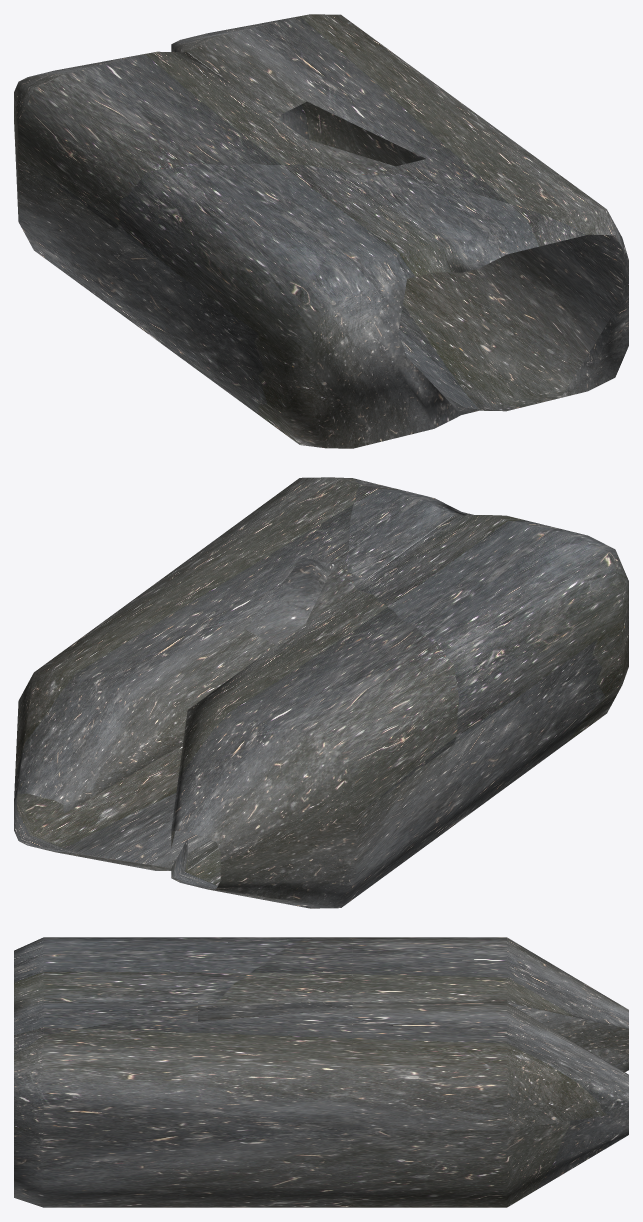
File: module1.fbx
The picture shows the model from 3 angles, top to bottom: view 1: azimuth 30°, elevation 25°; view 2: azimuth 150°, elevation 25°; view 3: azimuth 270°, elevation 25°; orthographic projection. The views are drawn at different scales.
Visible parts, largest first — view 1: Cube; view 2: Cube; view 3: Cube.
Boxes of the visible parts, x1,y1,x2,y2 form: Cube: [14, 14, 628, 448]; Cube: [14, 477, 628, 908]; Cube: [14, 937, 628, 1207].
Bounding box in the file's own units: 440 × 220 × 797.
